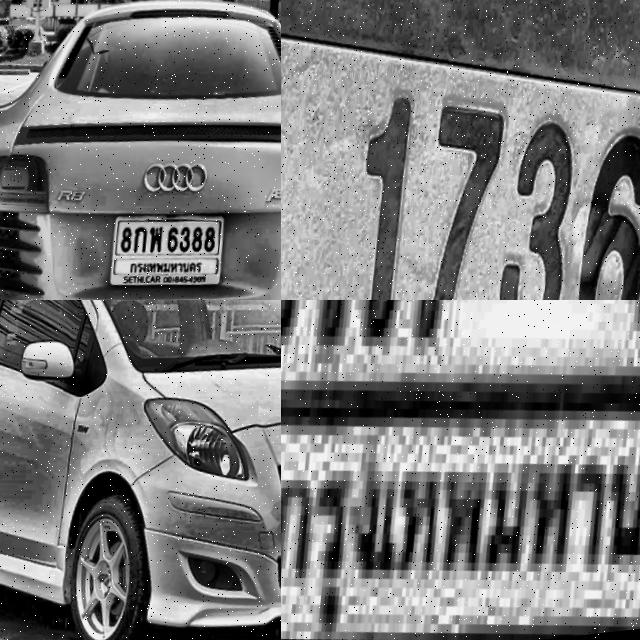license-plate: (281, 300, 640, 640), (281, 0, 640, 300), (100, 203, 225, 300)
